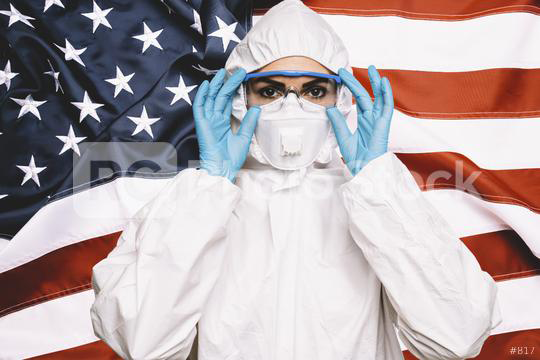Coverall: (101, 1, 491, 360)
Gloves: (192, 69, 259, 181), (327, 66, 393, 177)
with_mask: (250, 84, 332, 172)
